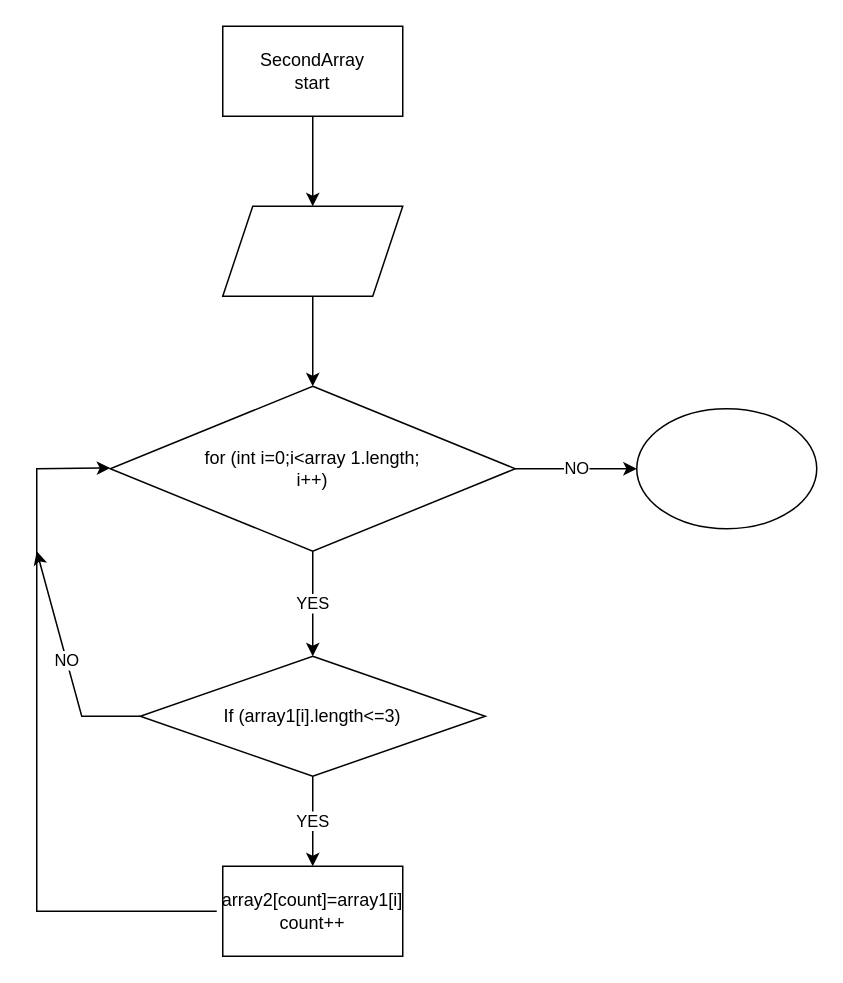
The diagram is 843 pixels wide and 983 high, and some of its shapes have lost their labels. The shapes that lost their labels are listed below. From the top down, each one's box as (x1, y1, x2, y2) in pixels, then its label:
(221, 205, 403, 296): string[]array1 string array2 int count=0
(635, 407, 817, 529): END
